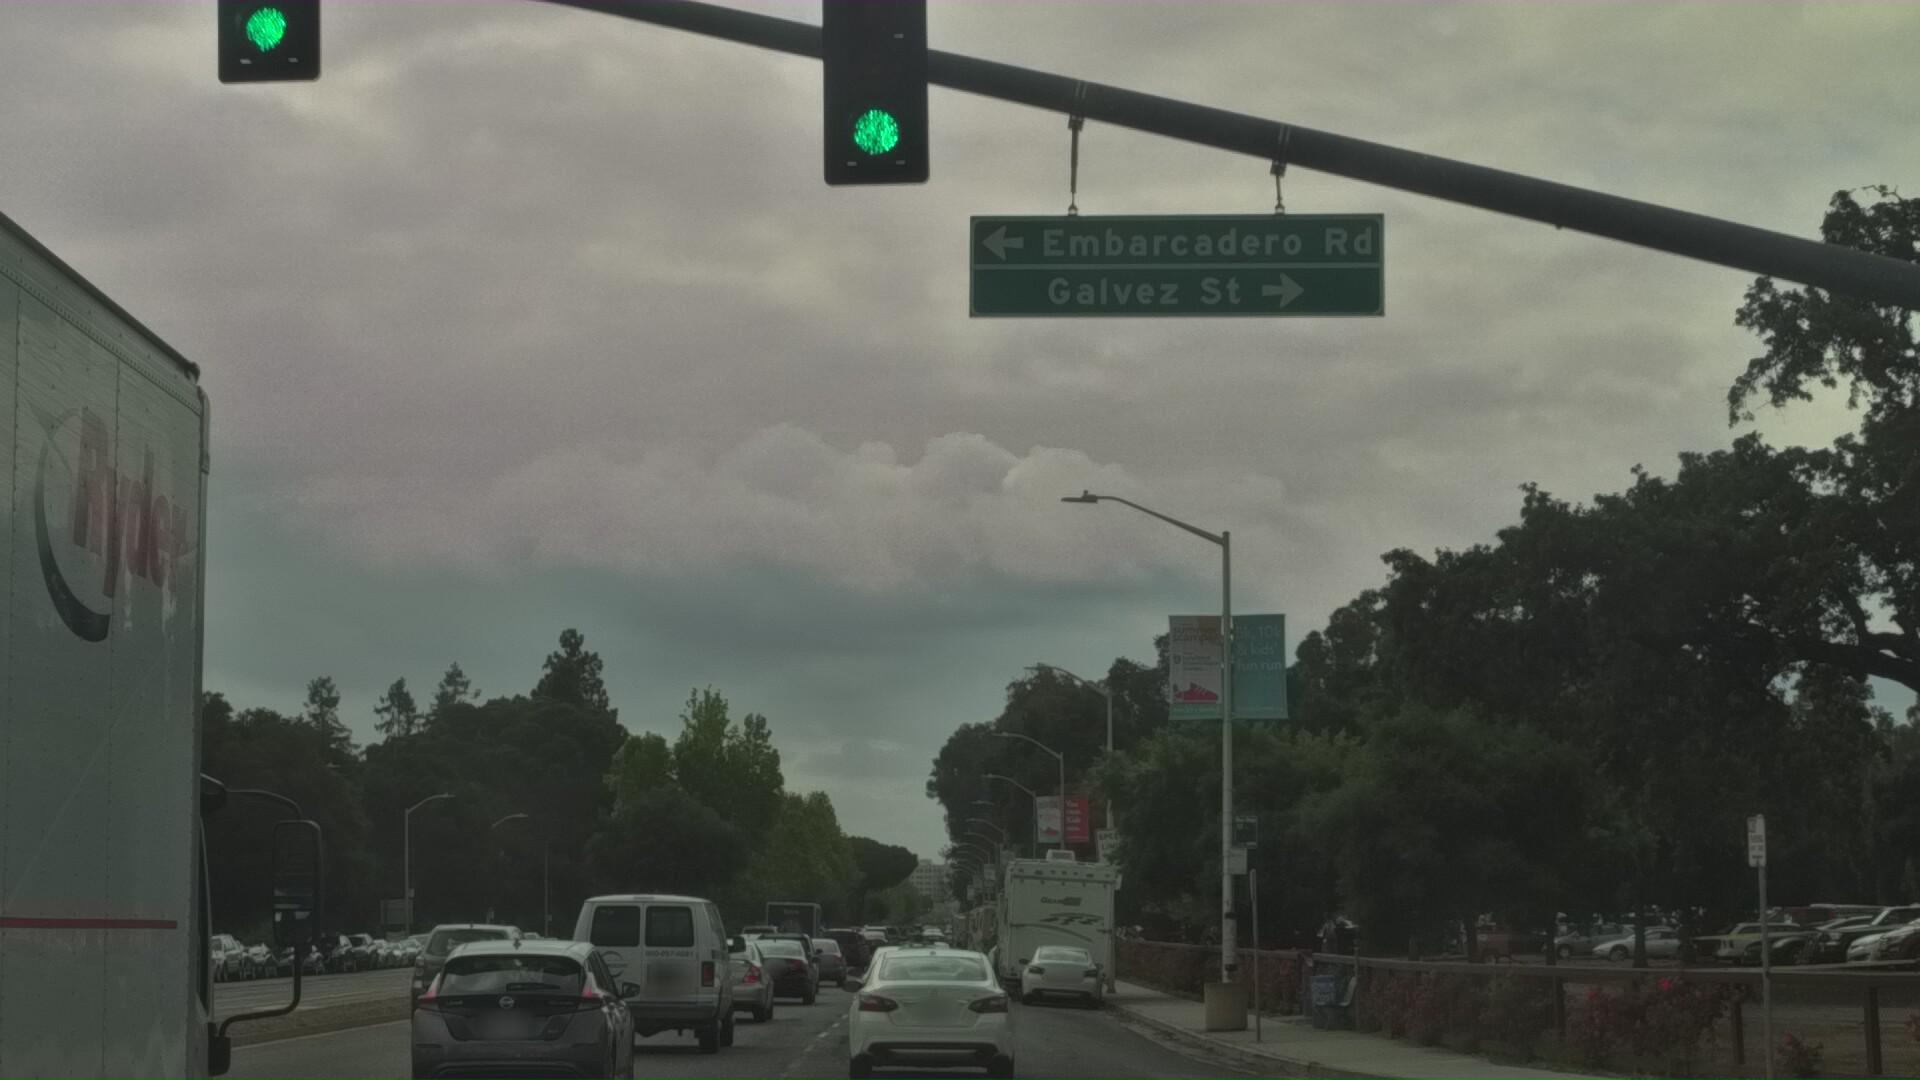car: (568, 975, 742, 1080), (394, 1010, 651, 1080), (0, 1007, 179, 1080), (382, 1011, 530, 1080), (837, 1011, 982, 1080), (840, 1023, 1013, 1080), (673, 1036, 786, 1080), (1011, 1044, 1112, 1080), (741, 1040, 828, 1080)
truck: (0, 0, 360, 1080)
